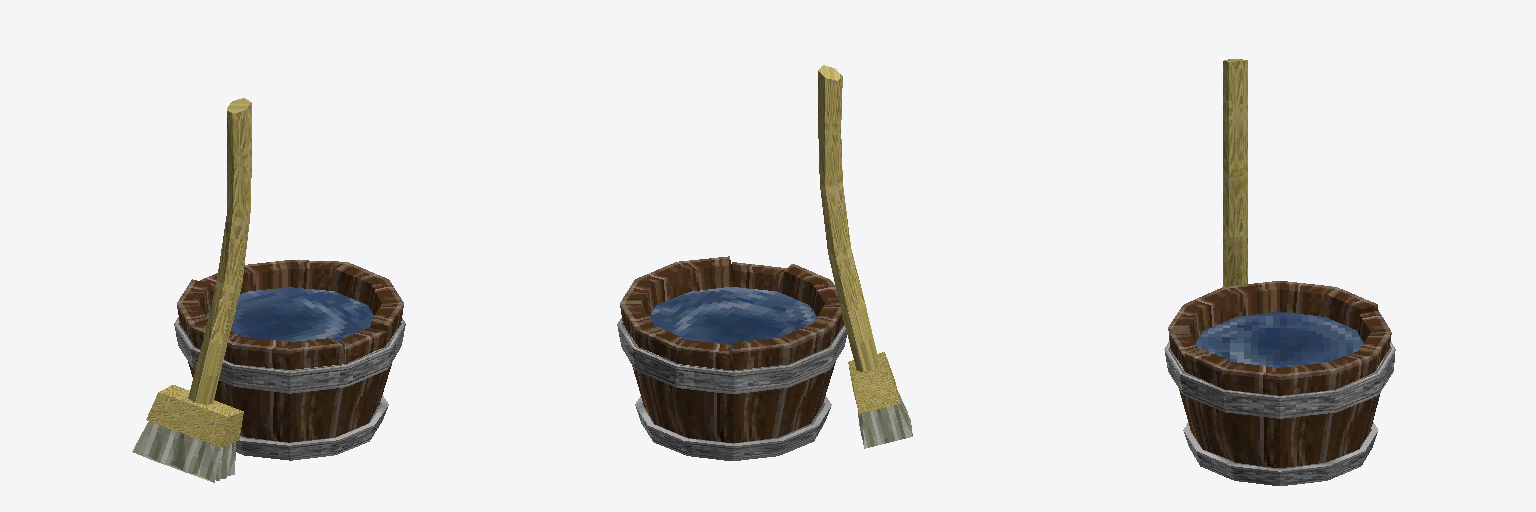
The picture shows the model from 3 angles: view 1: azimuth 30°, elevation 25°; view 2: azimuth 150°, elevation 25°; view 3: azimuth 270°, elevation 25°; orthographic projection.
Visible parts, largest first — view 1: part4_texture4, part1_texture1.002, part2_texture2.001, part3_texture3, part0_texture0.002; view 2: part4_texture4, part1_texture1.002, part2_texture2.001, part3_texture3, part0_texture0.002; view 3: part4_texture4, part2_texture2.001, part3_texture3, part1_texture1.002.
Part boxes in pixels (x1,y1,x2,y2): part4_texture4: (177, 260, 403, 442); part1_texture1.002: (146, 98, 251, 447); part2_texture2.001: (174, 317, 405, 460); part3_texture3: (206, 287, 373, 341); part0_texture0.002: (132, 422, 235, 482); part4_texture4: (620, 256, 843, 442); part1_texture1.002: (818, 65, 900, 413); part2_texture2.001: (617, 318, 846, 460); part3_texture3: (649, 287, 816, 350); part0_texture0.002: (858, 392, 912, 448); part4_texture4: (1168, 281, 1391, 467); part2_texture2.001: (1164, 341, 1395, 485); part3_texture3: (1196, 312, 1363, 367); part1_texture1.002: (1223, 59, 1247, 286).
Bounding box in the file's own units: 0.6406 × 0.8164 × 0.4766.
5 materials, 5 textured.